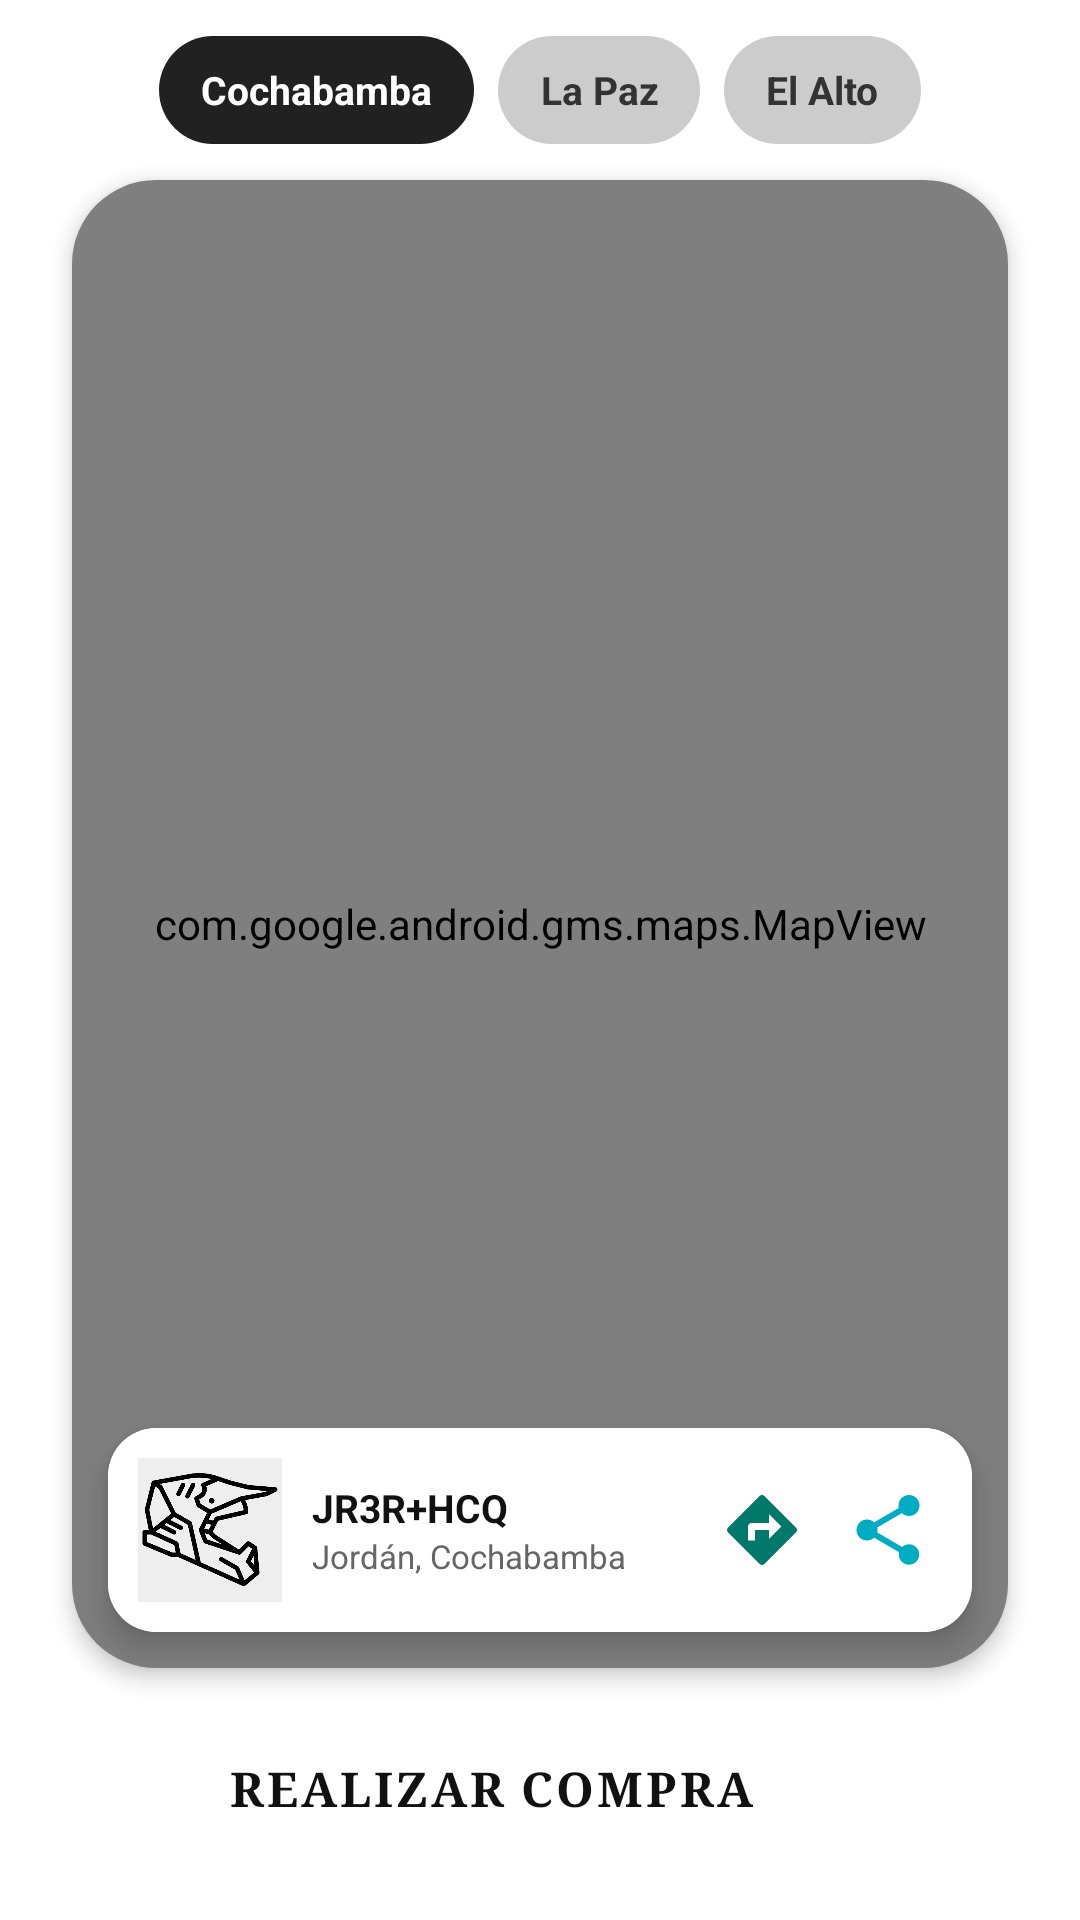

Icons on this 1080 × 1920 Android screen, each with its box as (x1=x1, y1=y1, x2=x2, y2=y2):
Compartir: (x1=856, y1=1495, x2=920, y2=1565)
Cómo llegar: (x1=727, y1=1495, x2=797, y2=1565)
